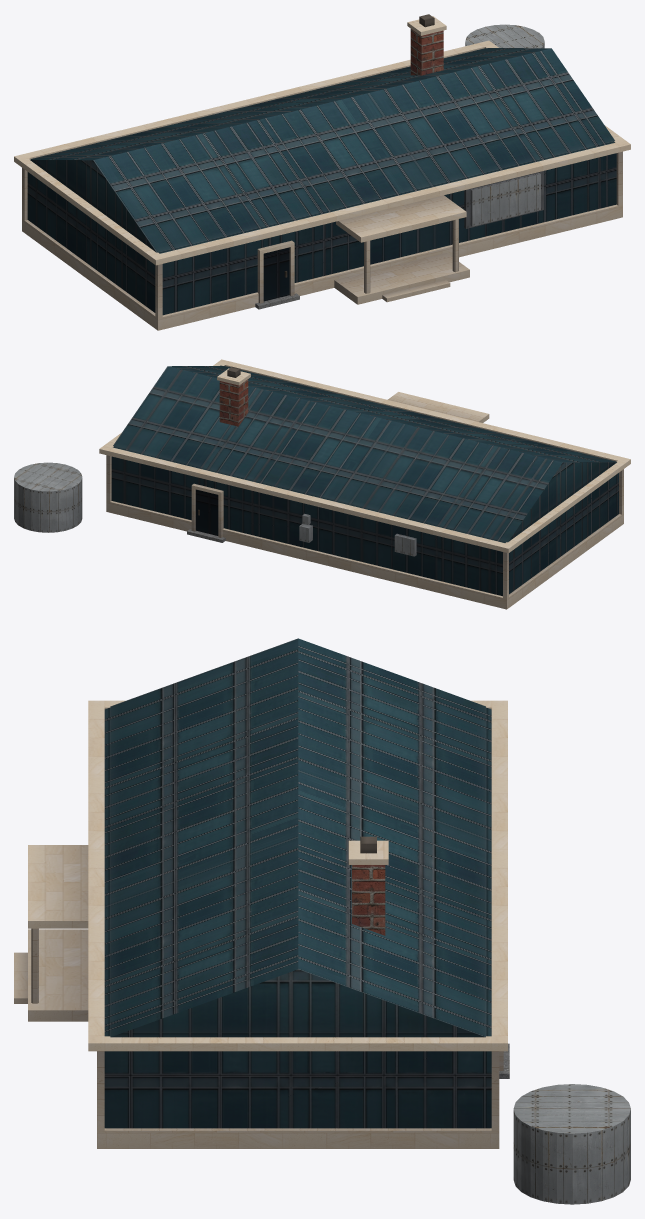
The model's file is greenhouse_lod0.gltf.
The picture shows the model from 3 angles, top to bottom: view 1: azimuth 30°, elevation 25°; view 2: azimuth 150°, elevation 25°; view 3: azimuth 270°, elevation 25°; orthographic projection. The views are drawn at different scales.
Visible parts, largest first — view 1: greenhouse_roof, greenhouse__v4_stone_detail, greenhouse_walls, greenhouse_gable_ends, greenhouse__vent_window, greenhouse__water_tank, greenhouse__v4_brick_detail, greenhouse_fen_07-glass-curtain-blue_1_t, greenhouse_fen_04-limestone_0, greenhouse__vent_frame; view 2: greenhouse_roof, greenhouse_walls, greenhouse__v4_stone_detail, greenhouse__water_tank, greenhouse_gable_ends, greenhouse__v4_brick_detail, greenhouse_fen_07-glass-curtain-blue_1_t, greenhouse_fen_14-steel-panel_4, greenhouse_fen_04-limestone_0; view 3: greenhouse_roof, greenhouse__v4_stone_detail, greenhouse_walls, greenhouse_gable_ends, greenhouse__water_tank, greenhouse__v4_brick_detail.
Part boxes in pixels (x1,y1,x2,y2): greenhouse_roof: (31, 48, 614, 253); greenhouse__v4_stone_detail: (14, 16, 630, 330); greenhouse_walls: (27, 153, 616, 315); greenhouse_gable_ends: (30, 159, 156, 252); greenhouse__vent_window: (470, 173, 540, 226); greenhouse__water_tank: (465, 24, 544, 48); greenhouse__v4_brick_detail: (410, 29, 443, 75); greenhouse_fen_07-glass-curtain-blue_1_t: (263, 247, 289, 301); greenhouse_fen_04-limestone_0: (257, 240, 294, 303); greenhouse__vent_frame: (464, 171, 543, 228); greenhouse_roof: (113, 365, 616, 542); greenhouse_walls: (111, 456, 618, 596); greenhouse__v4_stone_detail: (99, 359, 630, 609); greenhouse__water_tank: (14, 462, 82, 532); greenhouse_gable_ends: (508, 462, 616, 541); greenhouse__v4_brick_detail: (219, 379, 248, 426); greenhouse_fen_07-glass-curtain-blue_1_t: (195, 489, 218, 535); greenhouse_fen_14-steel-panel_4: (299, 513, 416, 556); greenhouse_fen_04-limestone_0: (191, 483, 223, 537); greenhouse_roof: (104, 638, 491, 1037); greenhouse__v4_stone_detail: (14, 700, 507, 1148); greenhouse_walls: (104, 1051, 491, 1128); greenhouse_gable_ends: (111, 969, 484, 1037); greenhouse__water_tank: (513, 1084, 630, 1204); greenhouse__v4_brick_detail: (352, 865, 385, 935).
Size of the model in its own units: 23.86 by 6.61 by 15.76.
